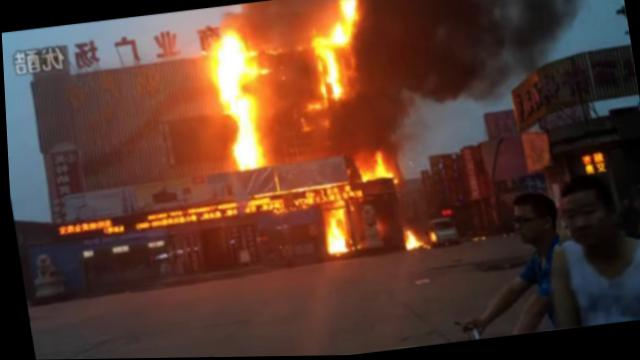fire: (208, 27, 270, 174), (315, 35, 347, 105), (353, 149, 395, 182), (321, 209, 350, 255), (339, 0, 365, 31), (330, 23, 354, 47), (400, 231, 425, 251)
